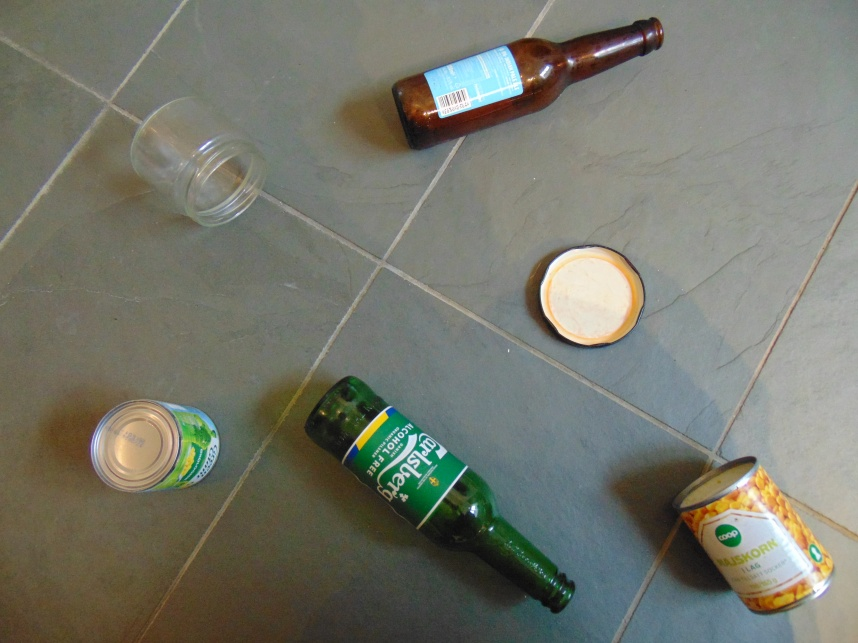glass_bottle: (305, 376, 578, 614), (392, 18, 666, 150), (128, 94, 268, 229)
metal: (539, 243, 647, 348)
metal_can: (674, 455, 838, 617), (89, 396, 222, 494)
